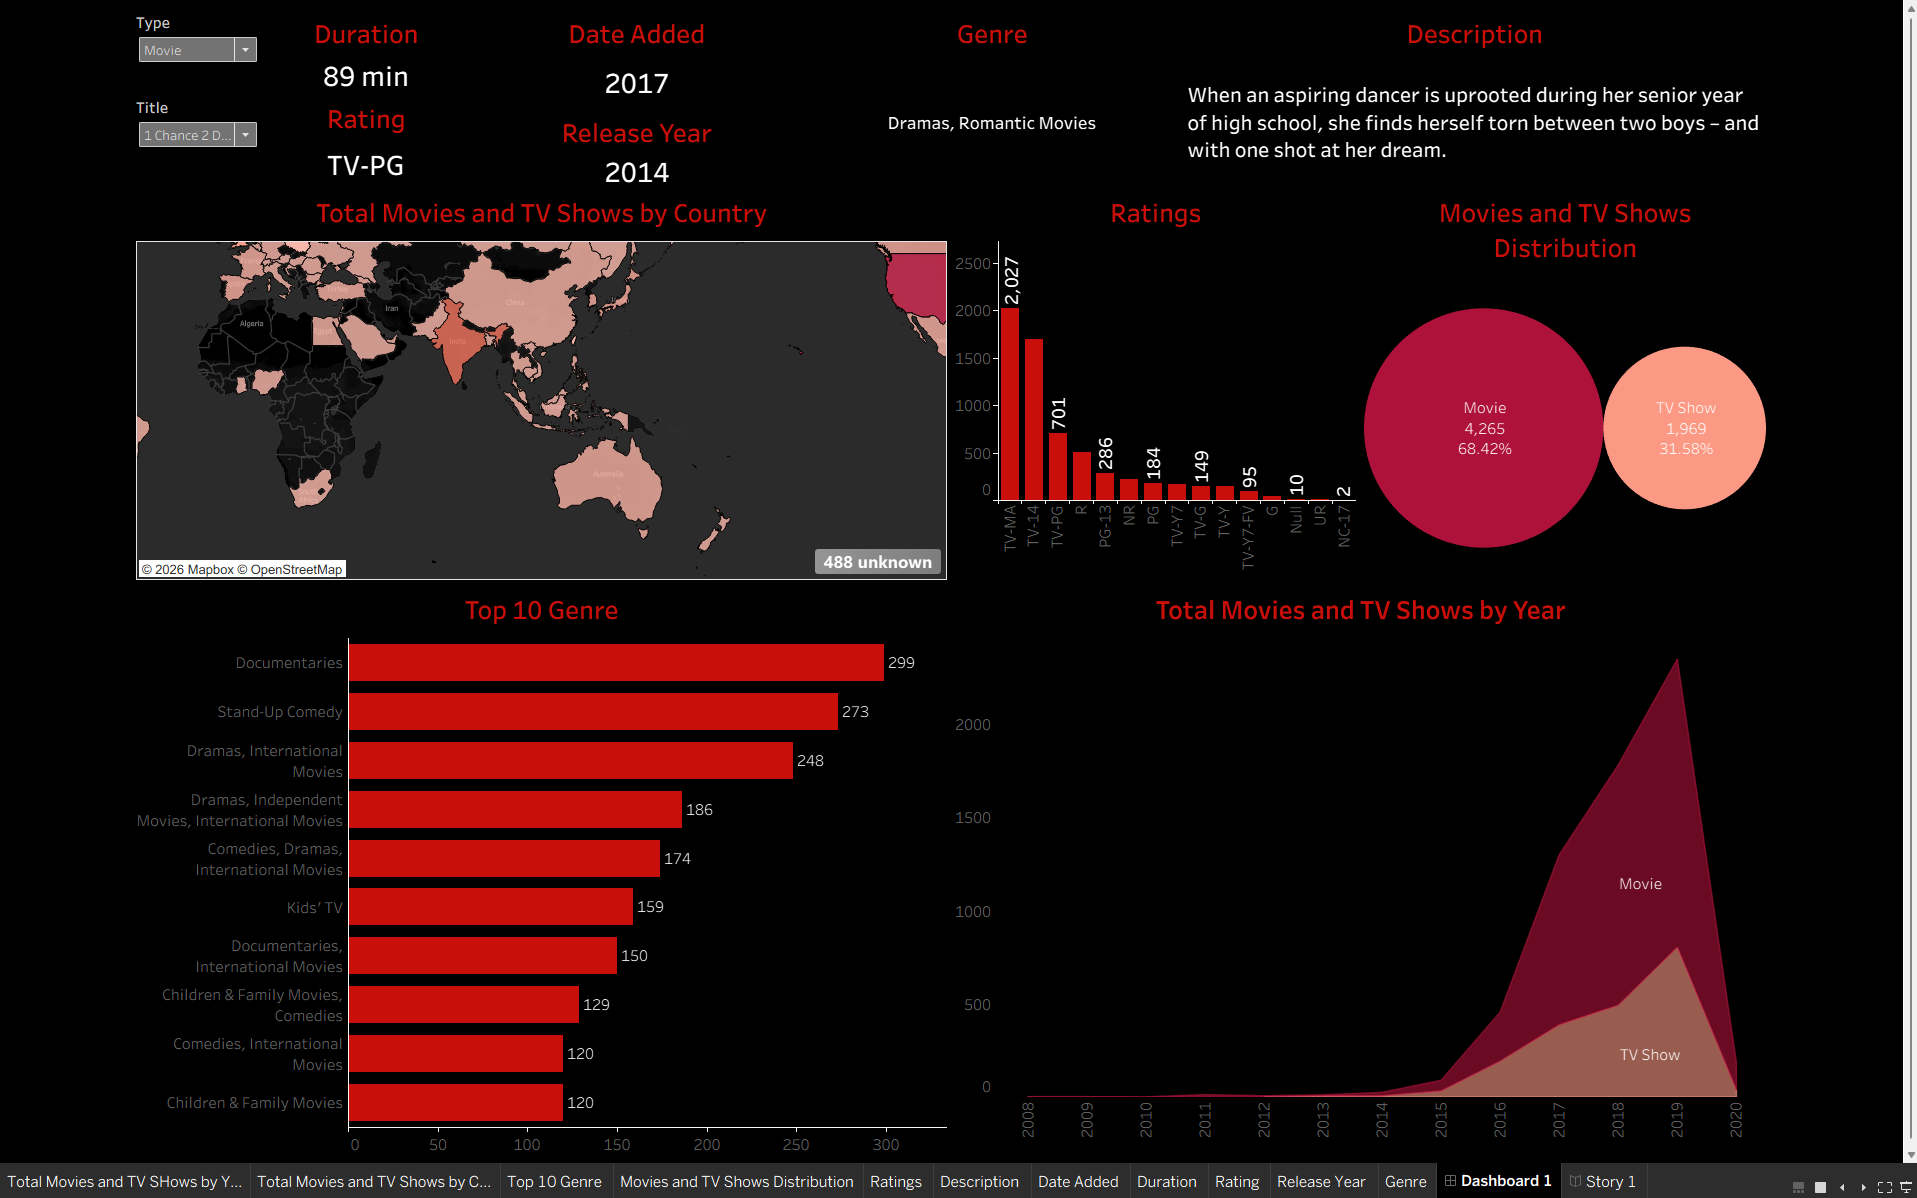

What the dashboard file says about the page in this screenshot:
{"tool":"tableau","page":{"name":"Dashboard 1","canvas":[1654,1169],"ordinal":0},"visuals":[{"type":"filter","title":"Description","param":"[federated.12fcm910e5tq3l1af88601gtyjc6].[none:type:nk]","box":[8,8,132,85.2]},{"type":"worksheet","title":"Duration","mark":"Automatic","box":[140,8,204,85]},{"type":"worksheet","title":"Date Added","mark":"Automatic","box":[344,8,337,99]},{"type":"worksheet","title":"Genre","mark":"Automatic","box":[681,8,373.8,179]},{"type":"worksheet","title":"Description","mark":"Automatic","box":[1054.8,8,591.2,179]},{"type":"worksheet","title":"Rating","mark":"Automatic","box":[140,93,204,94]},{"type":"filter","title":"Description","param":"[federated.12fcm910e5tq3l1af88601gtyjc6].[none:title:nk]","box":[8,93.2,132,93.8]},{"type":"worksheet","title":"Release Year","mark":"Automatic","box":[344,107,337,80]},{"type":"worksheet","title":"Total Movies and TV Shows by Country","mark":"Multipolygon","box":[8,187,818.8,397.4]},{"type":"worksheet","title":"Ratings","mark":"Automatic","rows":["show_id"],"cols":["rating"],"box":[826.8,187,409.4,397.4]},{"type":"worksheet","title":"Movies and TV Shows Distribution","mark":"Circle","box":[1236.3,187,409.7,397.4]},{"type":"worksheet","title":"Top 10 Genre","mark":"Automatic","rows":["listed_in"],"cols":["show_id"],"box":[8,584.4,818.8,576.6]},{"type":"worksheet","title":"Total Movies and TV SHows by Year","mark":"Area","rows":["show_id"],"cols":["date_added"],"box":[826.8,584.4,819.2,576.6]}]}

Visuals, with their boxes on the page's 1654x1169 design canvas (x1, y1, x2, y2). These are canvas units, not pixel positions in the 1917x1198 screenshot, which may show the page scaled, cropped or inside an application window:
"Description" filter: detection(8, 8, 140, 93)
"Duration" worksheet: detection(140, 8, 344, 93)
"Date Added" worksheet: detection(344, 8, 681, 107)
"Genre" worksheet: detection(681, 8, 1055, 187)
"Description" worksheet: detection(1055, 8, 1646, 187)
"Rating" worksheet: detection(140, 93, 344, 187)
"Description" filter: detection(8, 93, 140, 187)
"Release Year" worksheet: detection(344, 107, 681, 187)
"Total Movies and TV Shows by Country" worksheet (Multipolygon marks): detection(8, 187, 827, 584)
"Ratings" worksheet: detection(827, 187, 1236, 584)
"Movies and TV Shows Distribution" worksheet (Circle marks): detection(1236, 187, 1646, 584)
"Top 10 Genre" worksheet: detection(8, 584, 827, 1161)
"Total Movies and TV SHows by Year" worksheet (Area marks): detection(827, 584, 1646, 1161)
